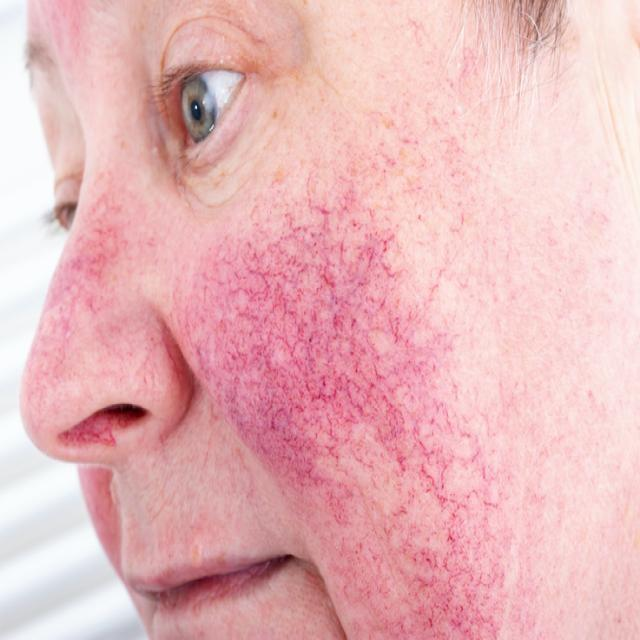Rosacea: (188, 194, 510, 640), (15, 196, 120, 427)
